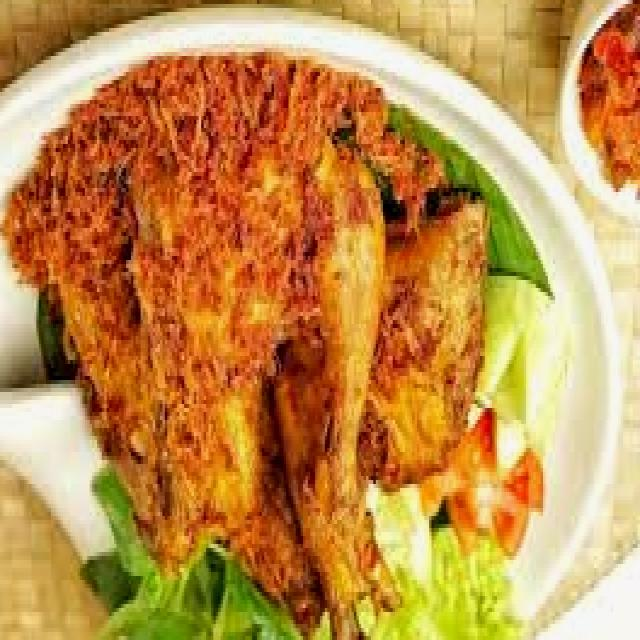ayam_goreng: (53, 124, 499, 626), (156, 171, 276, 573), (288, 163, 385, 606)
